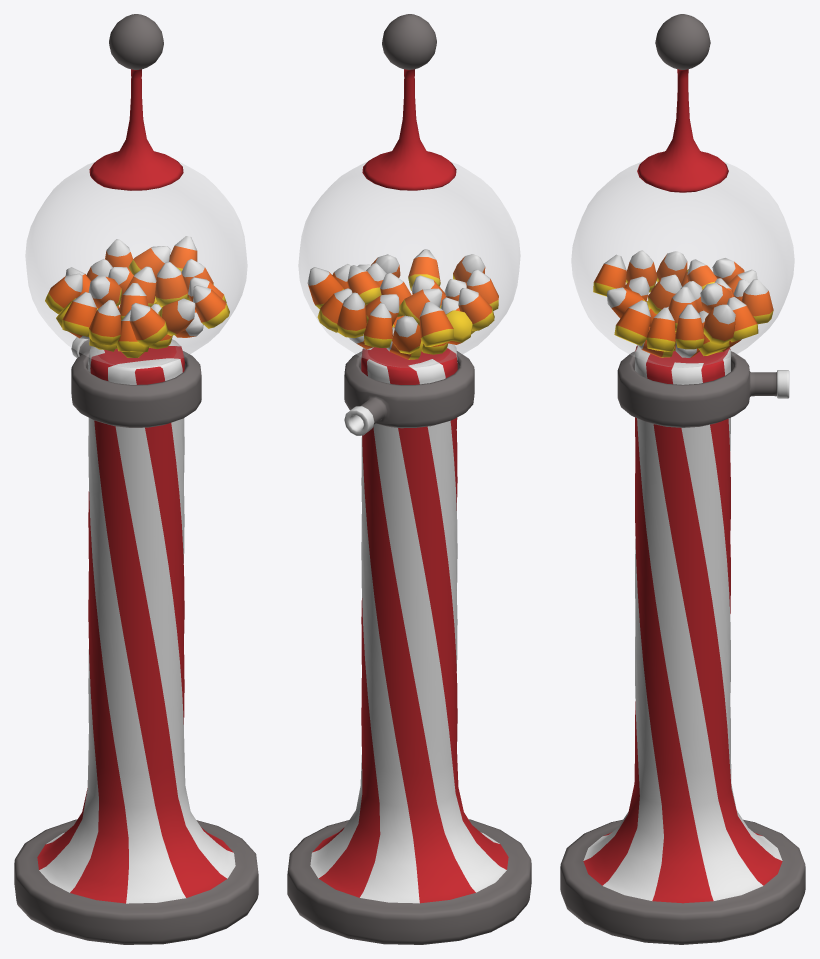
Rendered from Tower_Attack_Speed.fbx.
3 views of the same model, side by side, from view 1: azimuth 30°, elevation 25°; view 2: azimuth 150°, elevation 25°; view 3: azimuth 270°, elevation 25° (orthographic).
Parts seen in each view (by area): view 1: Cylinder, Sphere, cane.023, ShootingRifle; view 2: Cylinder, Sphere, cane.023, ShootingRifle; view 3: Cylinder, Sphere, cane.023, ShootingRifle.
Boxes of the visible parts, <box> form: Cylinder: <box>14,14,258,944</box>; Sphere: <box>25,162,247,367</box>; cane.023: <box>45,236,229,357</box>; ShootingRifle: <box>71,337,201,427</box>; Cylinder: <box>287,14,531,944</box>; Sphere: <box>298,162,520,367</box>; cane.023: <box>307,249,498,359</box>; ShootingRifle: <box>344,351,474,435</box>; Cylinder: <box>560,14,805,944</box>; Sphere: <box>571,162,794,367</box>; cane.023: <box>593,250,773,357</box>; ShootingRifle: <box>617,351,789,427</box>.
Bounding box in the file's own units: 82.02 × 324 × 82.05.
